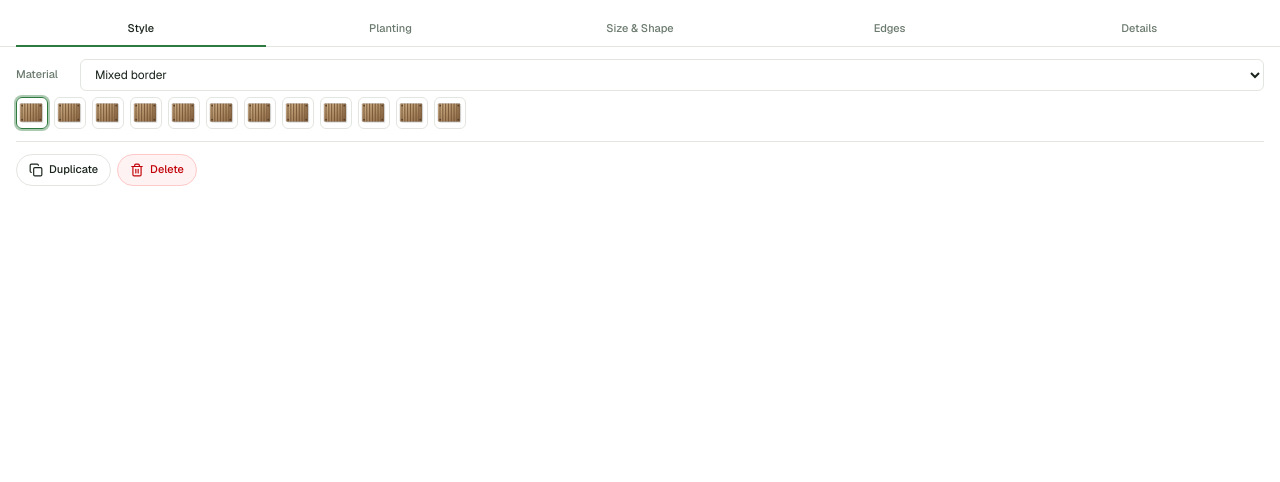
Test: the Edges tab › says what None means
Click the tab with test id "element-tab-edges" at (890, 29), box [765,12,1014,46]
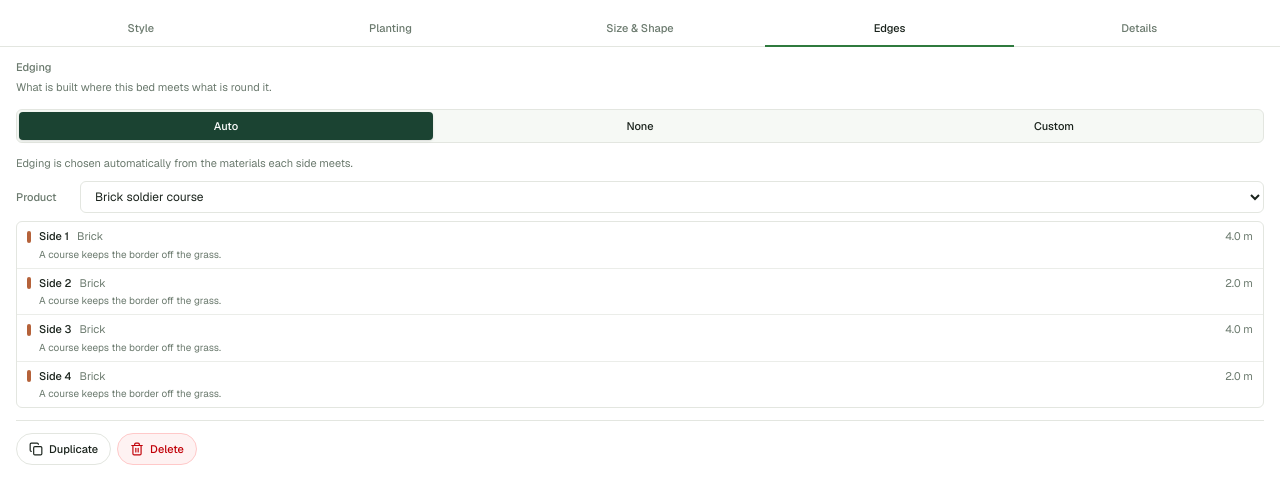
Click the radio button with test id "edges-mode-none" at (640, 126), box [433,112,847,140]
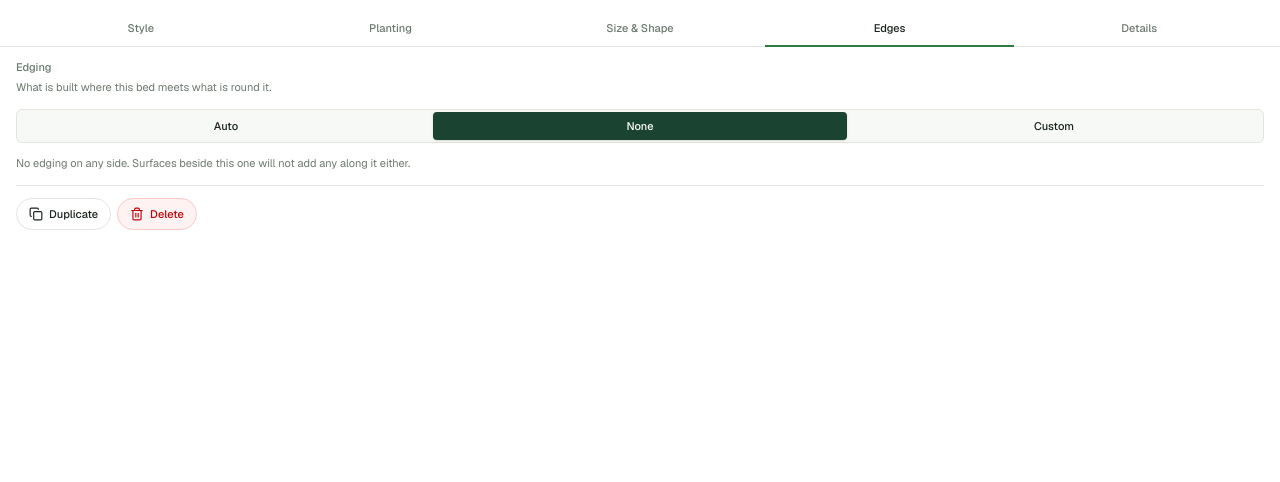
Now the text with test id "edges-none" shows "will not add any", box [16,156,410,170]
